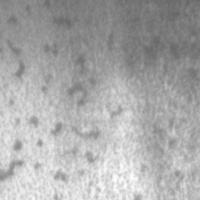pitted_surface: (36, 0, 199, 199), (0, 2, 88, 199)
